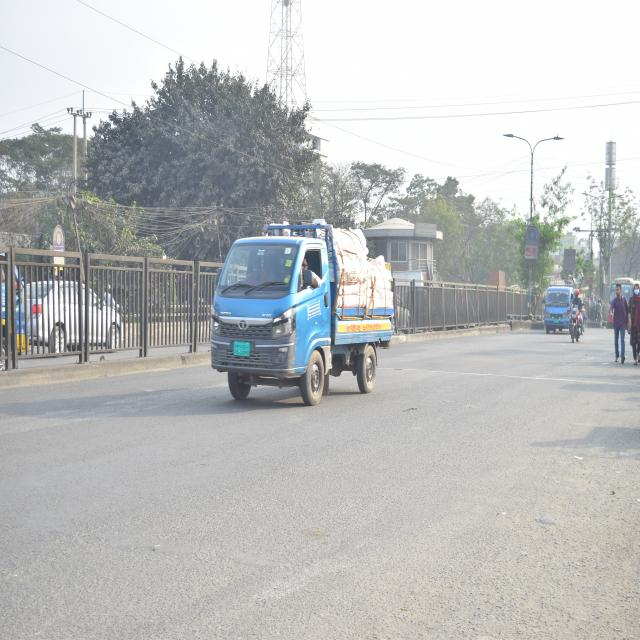motorbike: (569, 302, 583, 352)
pickup-van: (210, 224, 392, 399), (544, 280, 570, 336)
